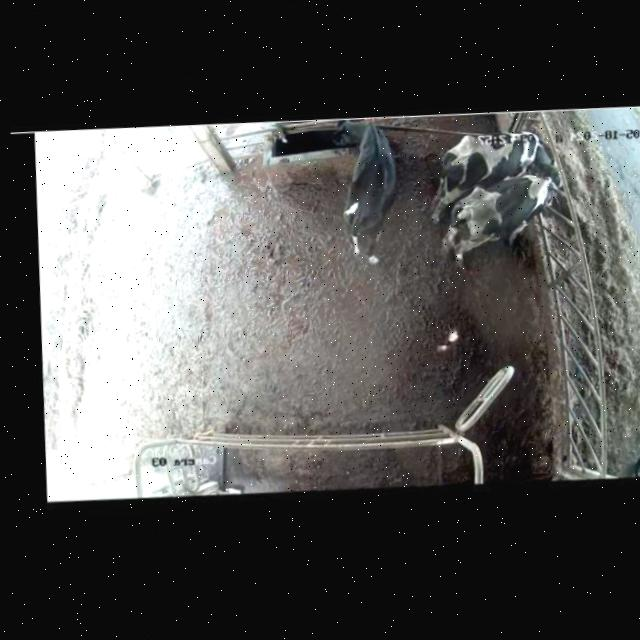drink: (312, 115, 397, 167)
eat: (496, 168, 595, 232), (492, 125, 582, 177)
